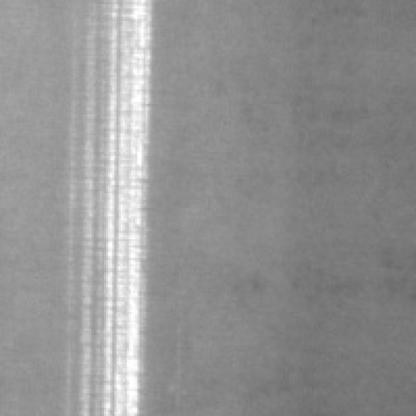scratches: (64, 0, 156, 412)
